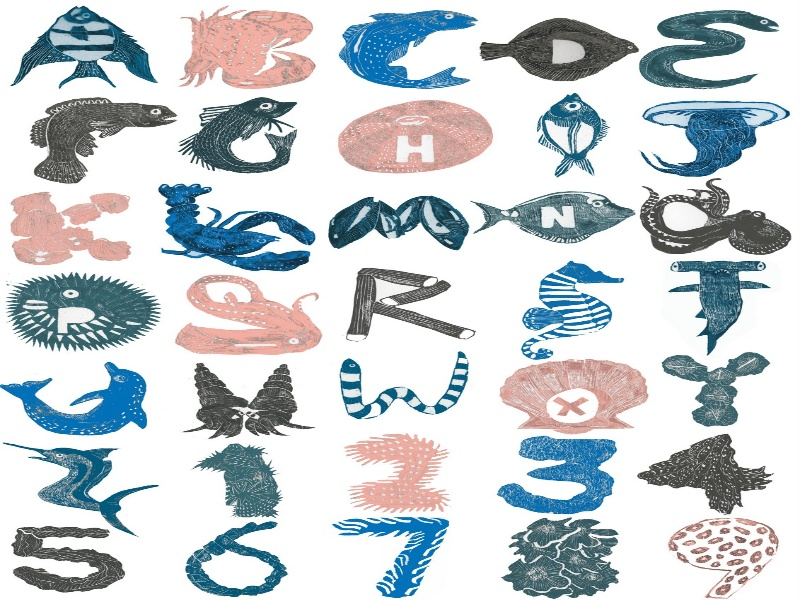letter: (338, 261, 496, 353), (517, 378, 611, 425), (518, 192, 587, 236), (49, 301, 102, 347), (391, 131, 442, 168)
